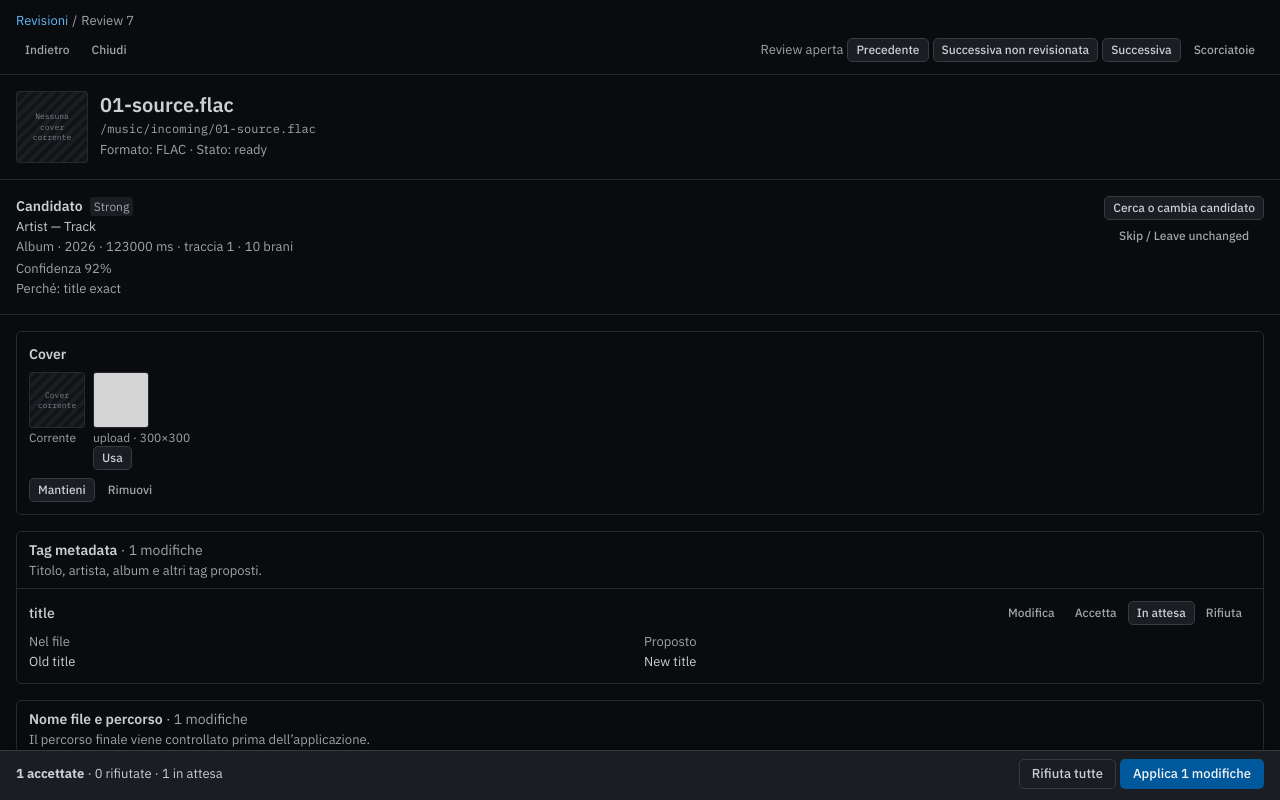
Scenario: ReviewDetail › keeps the CandidateCard visible after a cover action returns a successor revision
The image size is (1280, 800).
Expected: the text "Artist — Track" is shown, [16, 218, 96, 235]
Click the button "Usa" at {"x": 112, "y": 458}, box [93, 446, 132, 470]
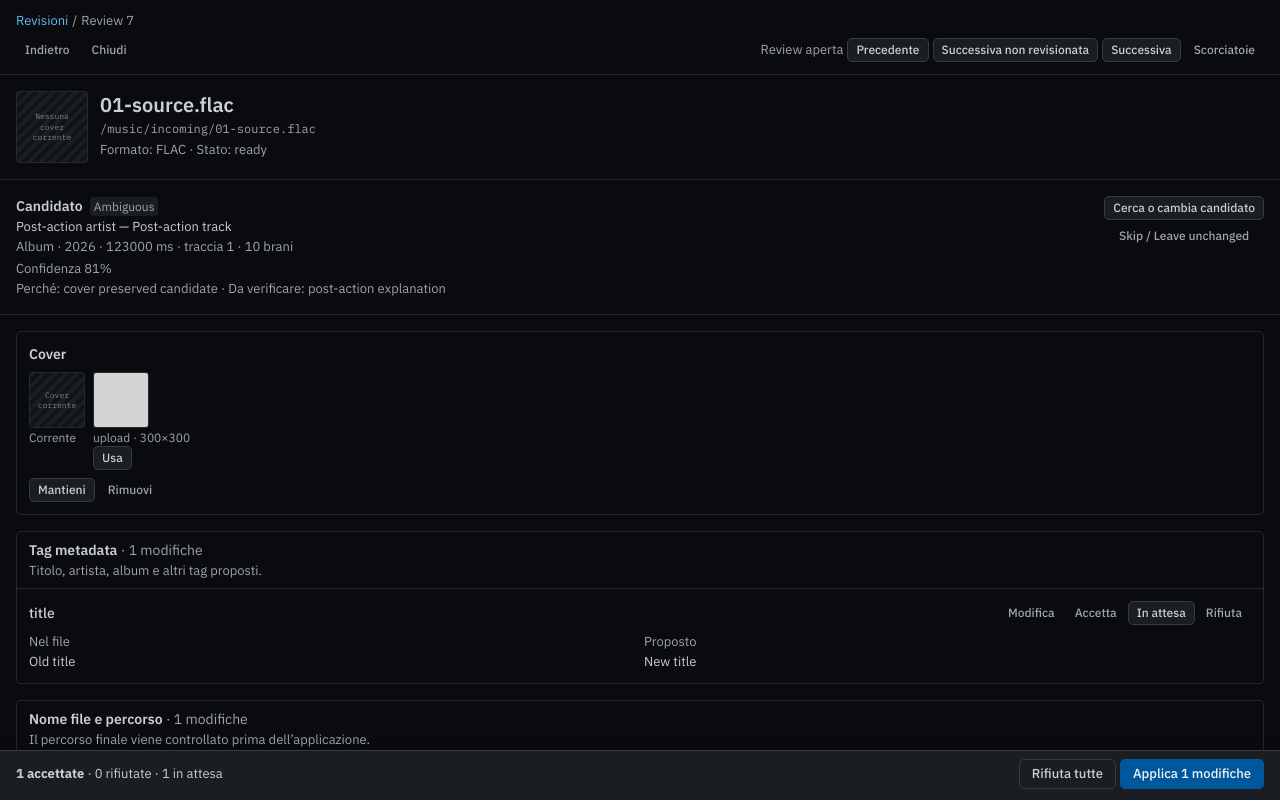
Result: the text "Post-action artist — Post-action track" is shown at [16, 218, 232, 235]
Result: the text "Confidenza 81%" is shown at [16, 260, 112, 277]
Result: the text "Perché: cover preserved candidate" is shown at [16, 280, 446, 298]
